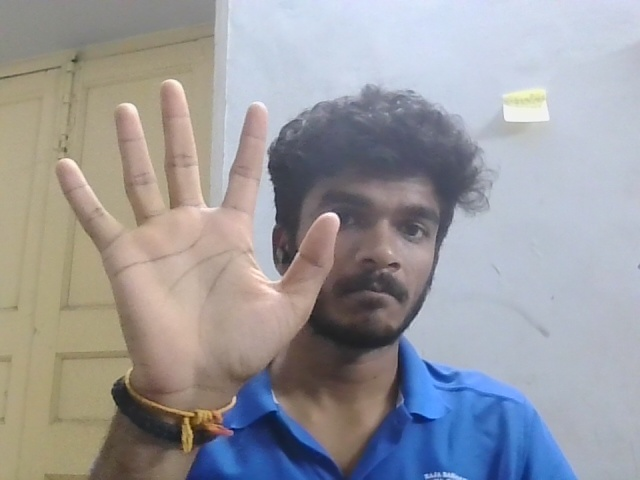Hello: (43, 67, 353, 413)
